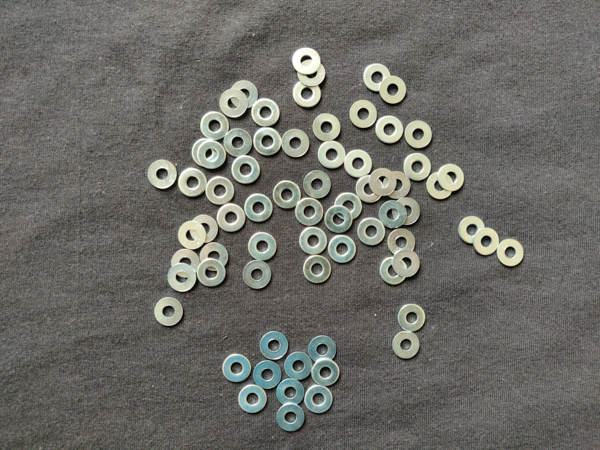circle: (243, 260, 272, 290), (328, 234, 358, 263), (148, 160, 177, 189), (179, 168, 208, 197), (223, 354, 252, 383), (239, 385, 268, 414), (248, 232, 277, 261), (217, 203, 246, 232), (200, 242, 229, 271), (200, 111, 229, 140), (379, 257, 408, 286), (281, 129, 310, 158), (232, 155, 261, 184), (219, 89, 248, 118), (155, 298, 184, 326), (168, 264, 197, 292), (171, 250, 200, 278), (190, 215, 219, 243), (277, 404, 306, 432), (254, 361, 283, 389), (305, 385, 334, 413), (313, 113, 341, 142), (192, 139, 221, 167), (206, 177, 235, 205), (245, 194, 273, 223), (296, 198, 325, 226), (325, 205, 353, 234), (318, 141, 346, 170), (384, 171, 412, 200), (358, 218, 387, 246), (379, 201, 408, 229), (405, 121, 434, 149), (350, 100, 378, 129), (252, 99, 281, 127), (284, 353, 313, 381), (178, 222, 206, 250), (261, 332, 289, 360), (309, 336, 337, 364), (198, 259, 226, 287), (293, 80, 321, 108), (198, 141, 226, 169), (304, 256, 332, 284), (335, 192, 363, 220), (345, 150, 373, 178), (393, 331, 421, 359), (399, 304, 427, 332), (393, 198, 421, 226), (376, 116, 404, 144), (224, 129, 252, 157), (392, 250, 420, 278), (276, 379, 305, 406), (304, 171, 331, 200), (364, 63, 391, 92), (498, 239, 525, 268), (389, 228, 416, 257), (312, 359, 340, 386), (293, 48, 321, 75), (274, 181, 302, 208), (300, 227, 327, 255), (357, 175, 384, 203), (370, 168, 397, 196), (405, 153, 432, 181), (380, 76, 407, 104), (254, 128, 282, 155), (427, 172, 454, 200), (438, 164, 465, 192), (231, 81, 258, 108), (298, 60, 326, 86), (459, 217, 485, 245), (474, 228, 500, 256)
